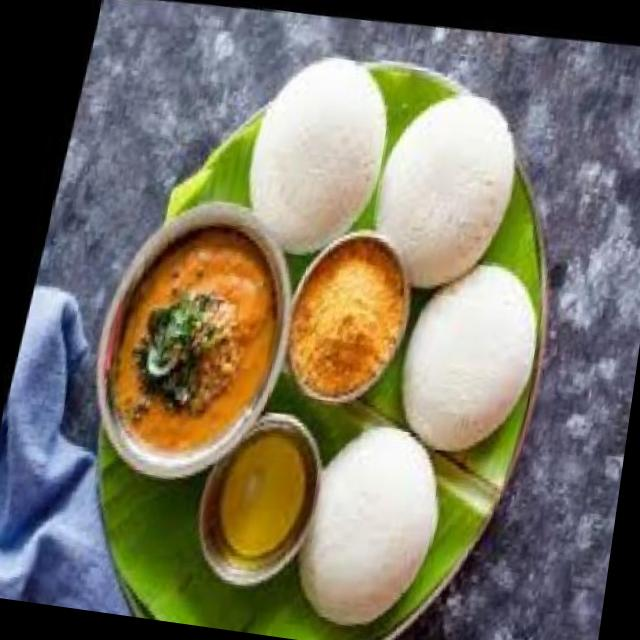idli: (349, 78, 522, 296), (286, 414, 455, 636), (226, 38, 396, 258), (384, 248, 549, 458)
